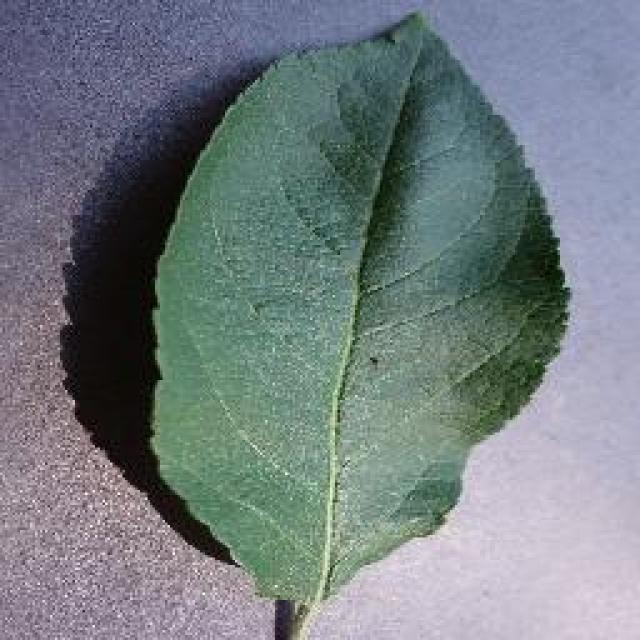apple healthy: (140, 8, 572, 632)
